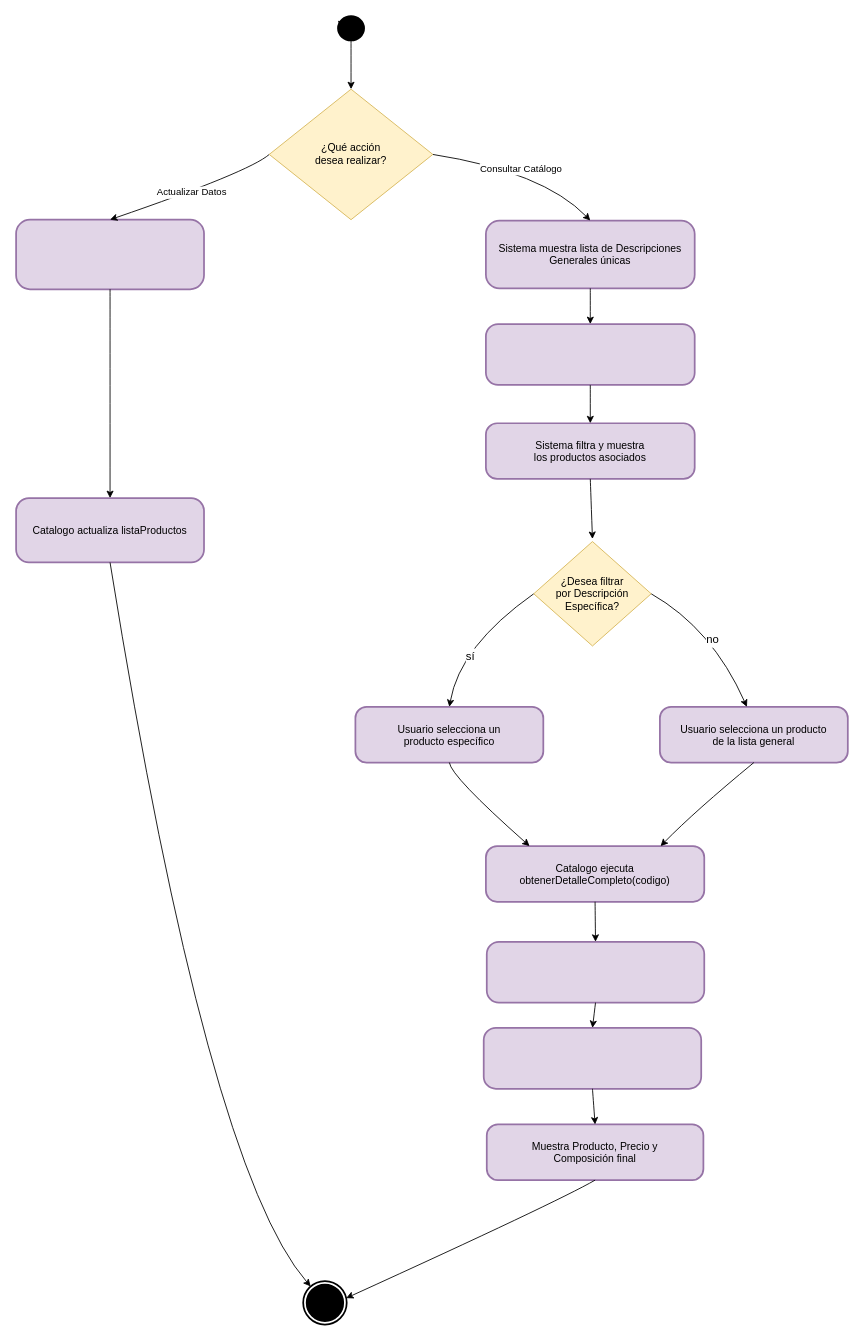
Some shapes in this 863 by 1340 pixel diagram are drawn without their labels. The shapes that lost their labels are listed below. From the top down, each one's box as (x1, y1, x2, y2) in pixels, then its label:
(15, 218, 204, 290): Importar Actualización de Precios (Cargar nuevo CSV)
(485, 323, 695, 385): Usuario selecciona una 'Descripción General'
(485, 940, 705, 1003): Sistema busca si el código existe en mapaComposiciones
(482, 1027, 702, 1089): Sistema inyecta la Composición al Producto (si existe)
